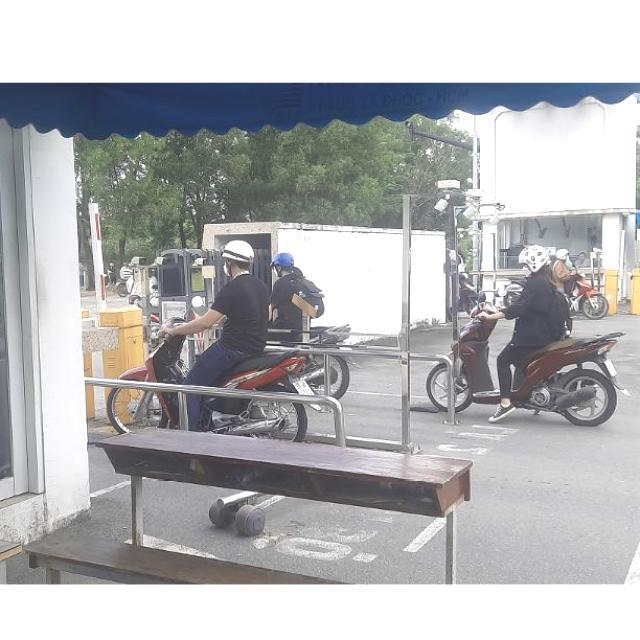Helmet: (220, 240, 255, 278), (518, 242, 550, 280), (269, 251, 296, 278)
